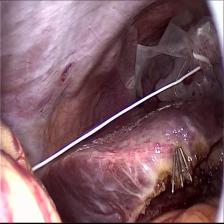Specimen Bag: (124, 11, 224, 104)
